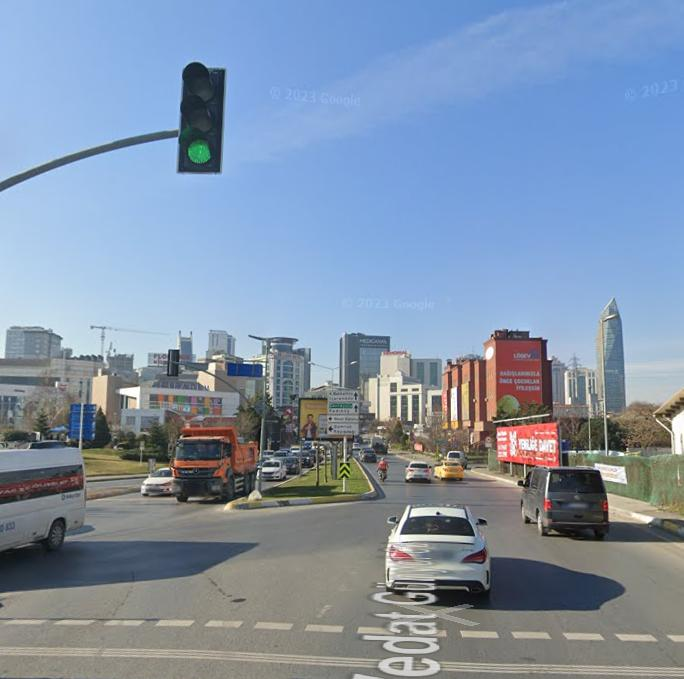greenlight: (182, 63, 217, 166)
